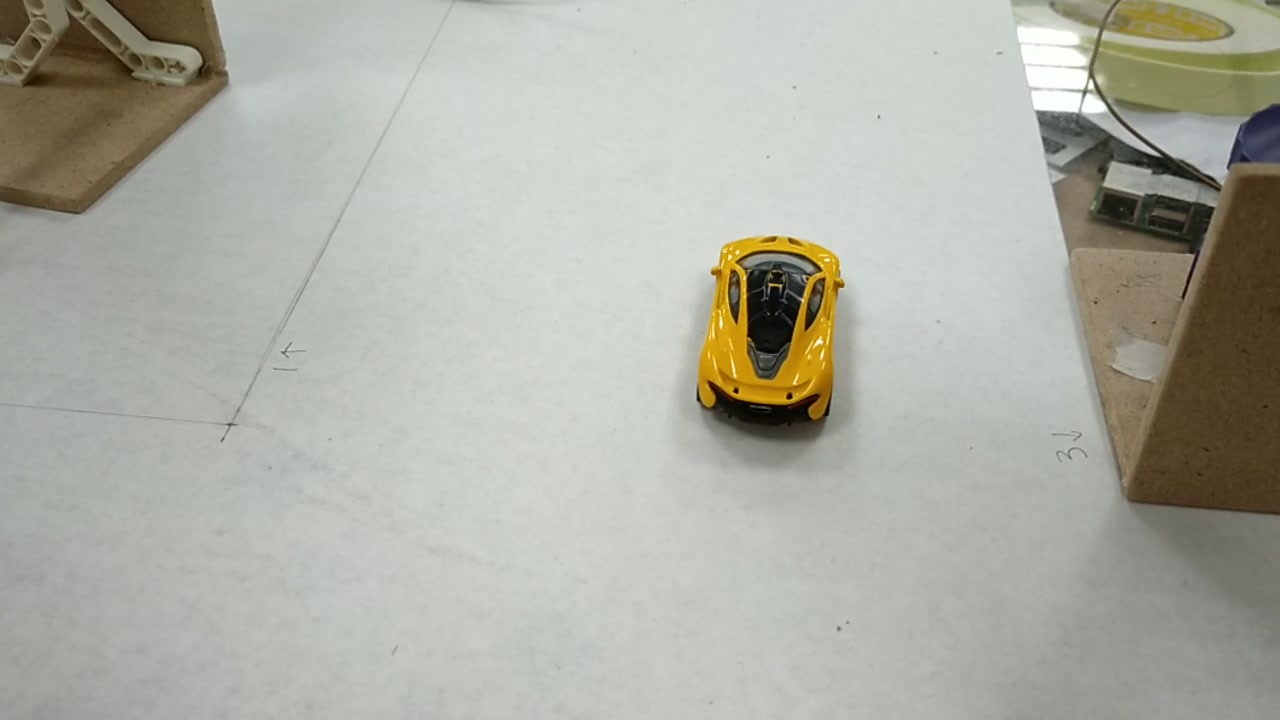car: (693, 231, 850, 419)
